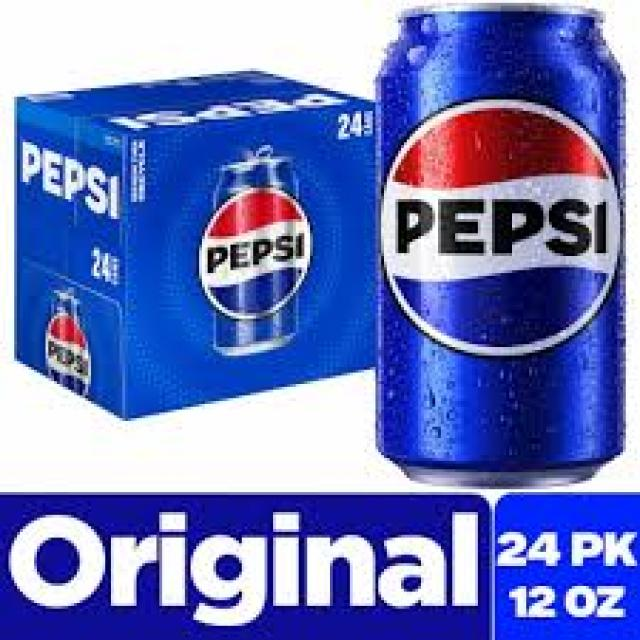Cans: (364, 3, 632, 486)
